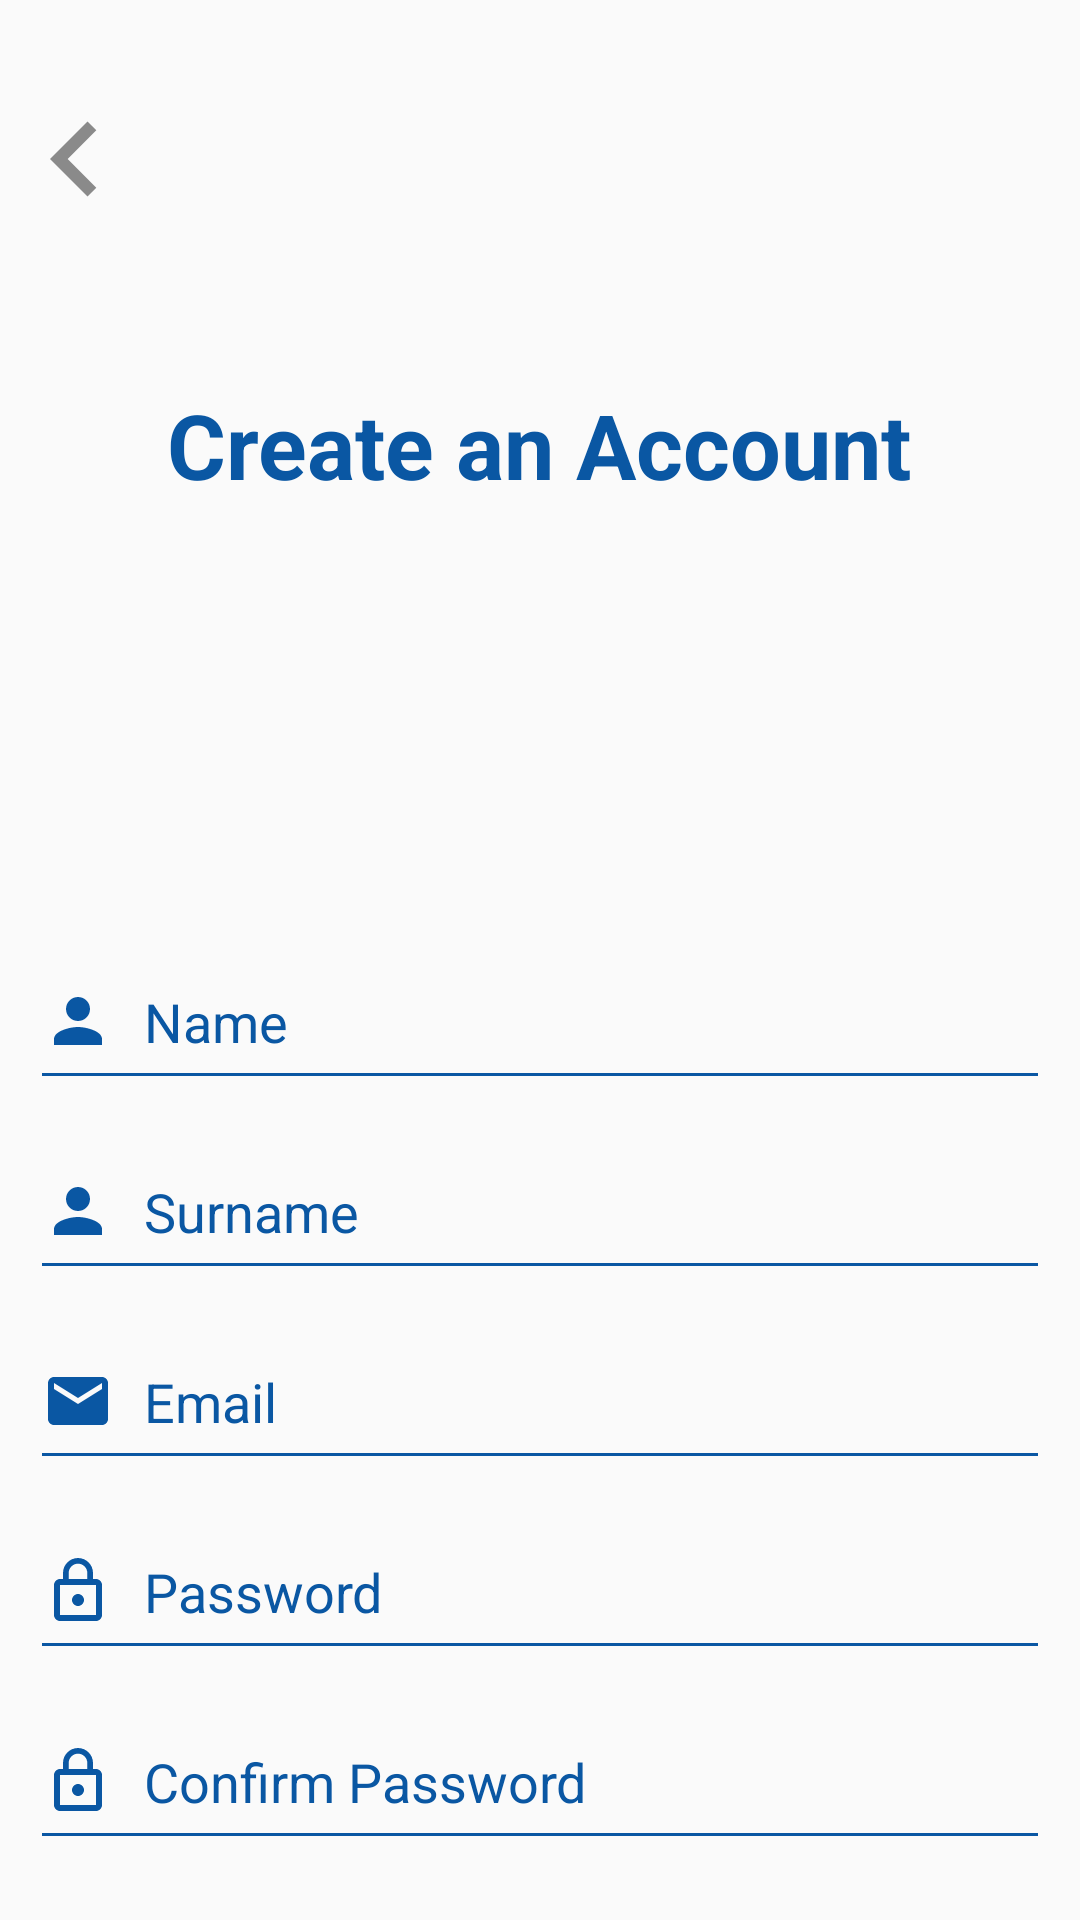

Icons on this 1080px x 1920px Android screen, each with its box as region(x1, y1, x2, y2):
left: region(50, 121, 96, 197)
